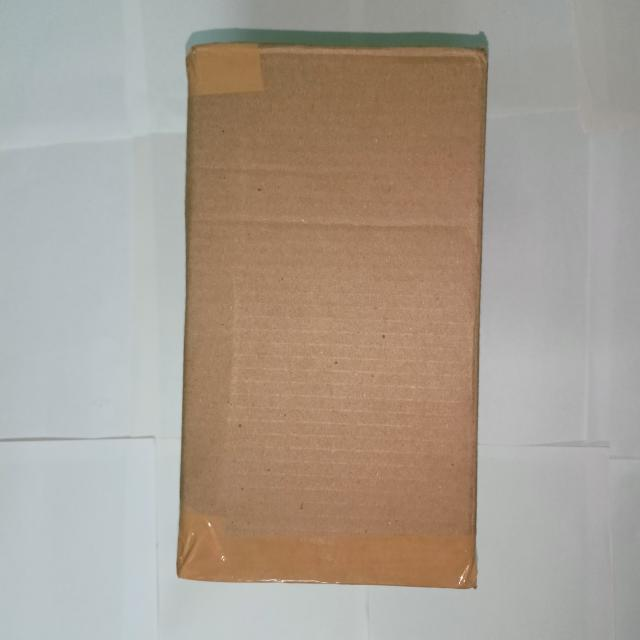box: (182, 54, 485, 582)
